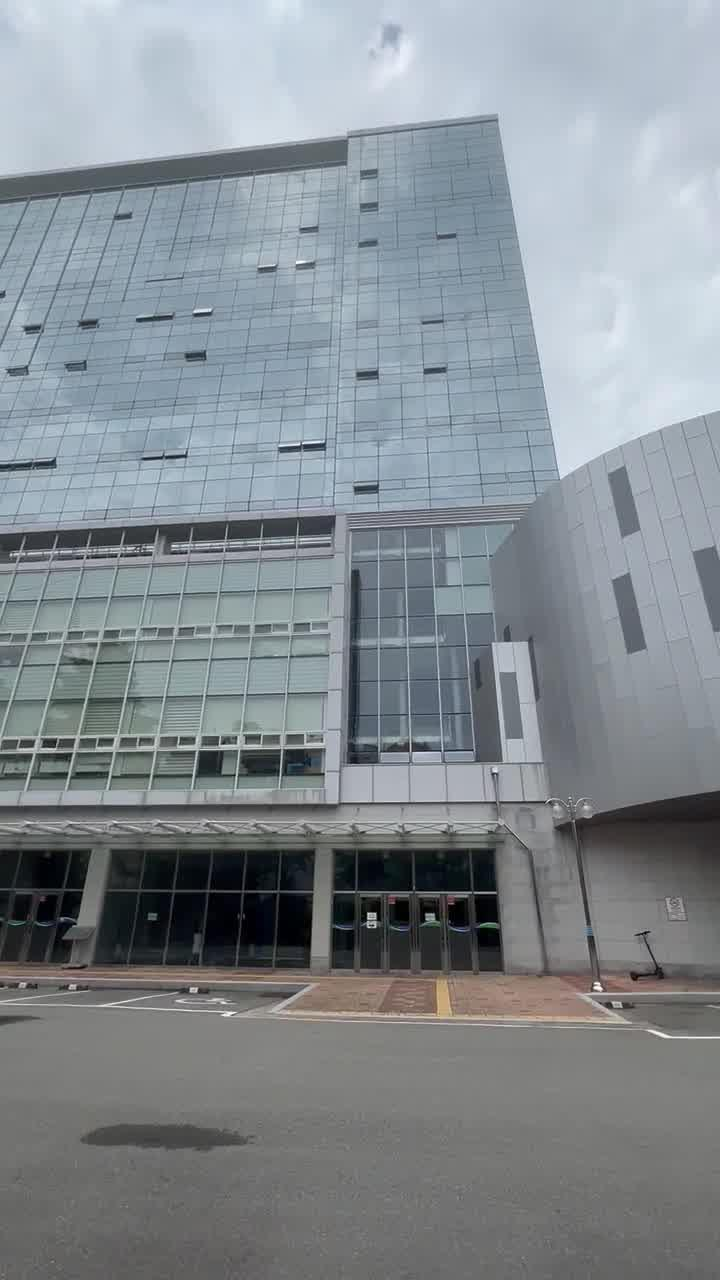building: (16, 98, 548, 966)
